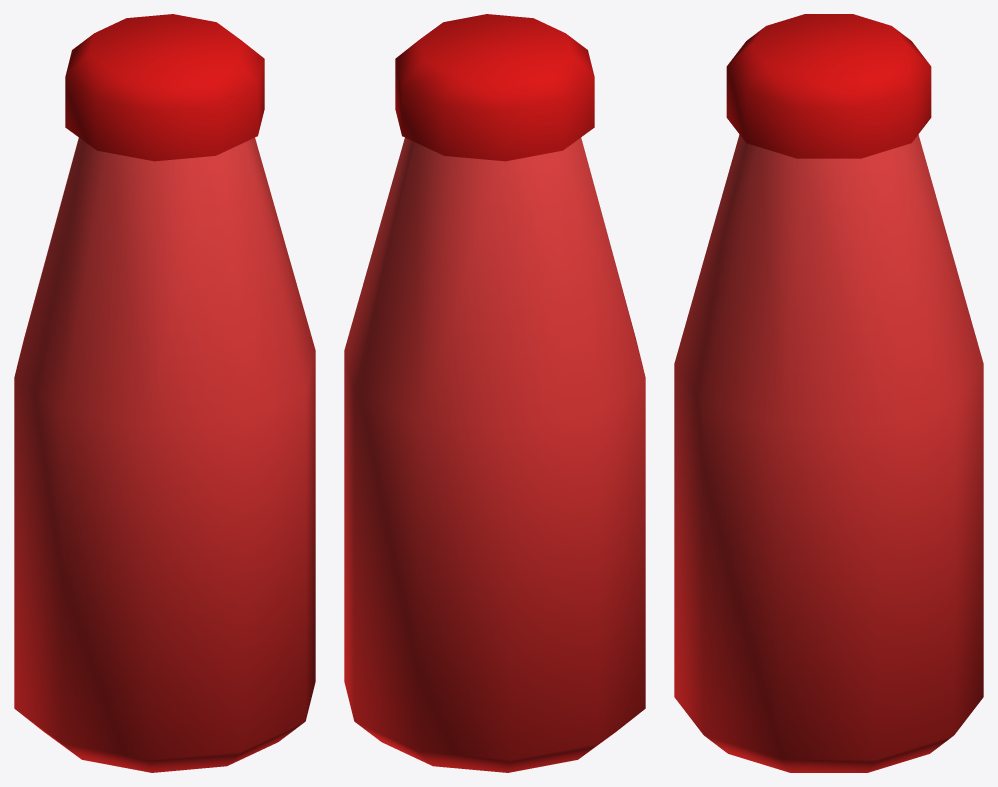
File: bottle_small_red.fbx
The picture shows the model from 3 angles, left to right: view 1: azimuth 30°, elevation 25°; view 2: azimuth 150°, elevation 25°; view 3: azimuth 270°, elevation 25°; orthographic projection.
Parts seen in each view (by area): view 1: bottle_small_red; view 2: bottle_small_red; view 3: bottle_small_red.
Boxes of the visible parts, x1,y1,x2,y2 form: bottle_small_red: (14,14,315,772); bottle_small_red: (344,14,645,772); bottle_small_red: (674,14,983,772).
Size of the model in its own units: 40.56 by 103 by 42.65.
